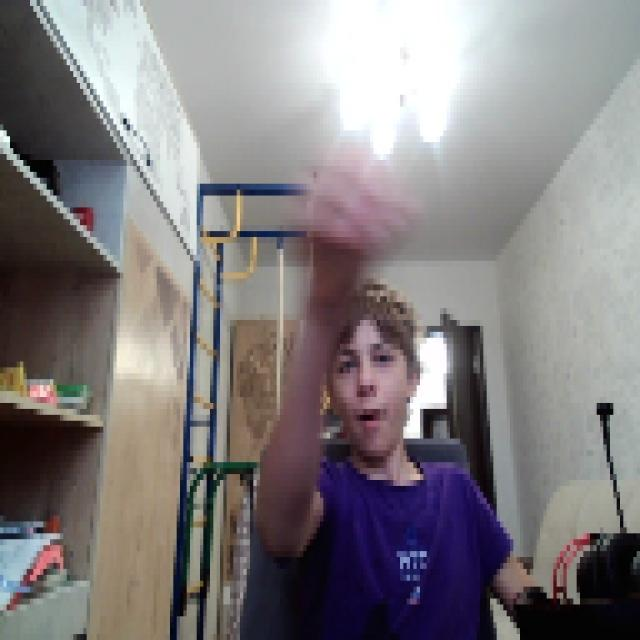left_click: (297, 125, 410, 266)
